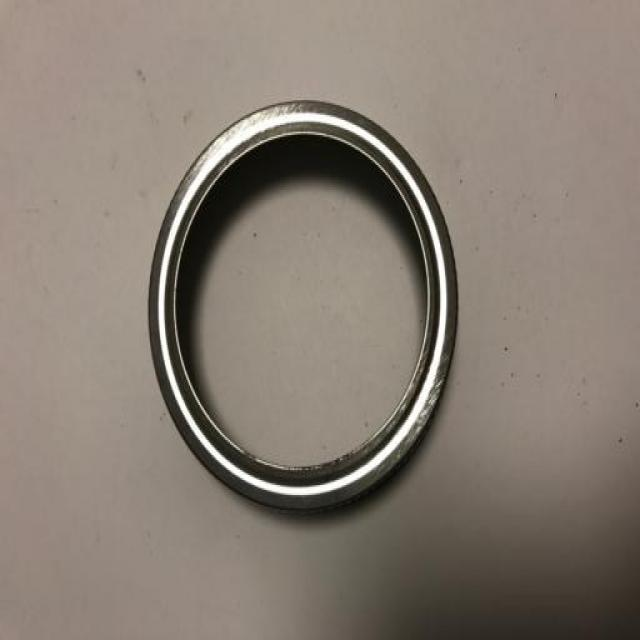metel: (103, 88, 479, 543)
